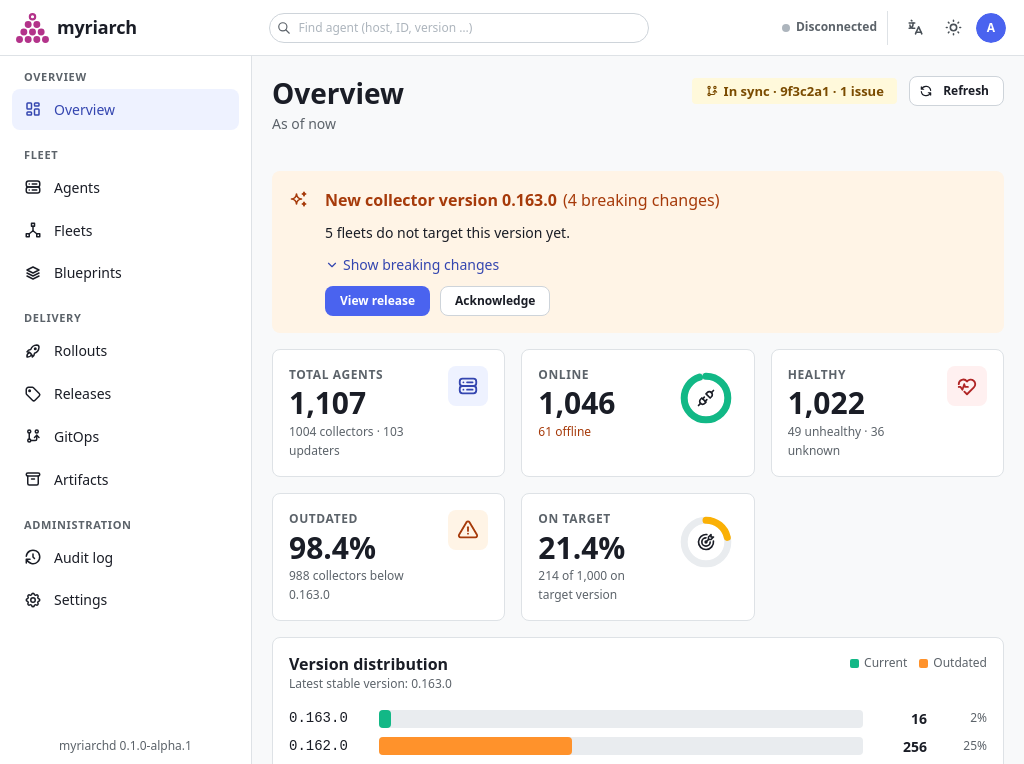
authentication › a 401 from any request logs the user out
Check: the text "Total agents" is shown, box [289, 366, 383, 383]
Click the link "Agents": click(62, 187) [24, 178, 100, 197]
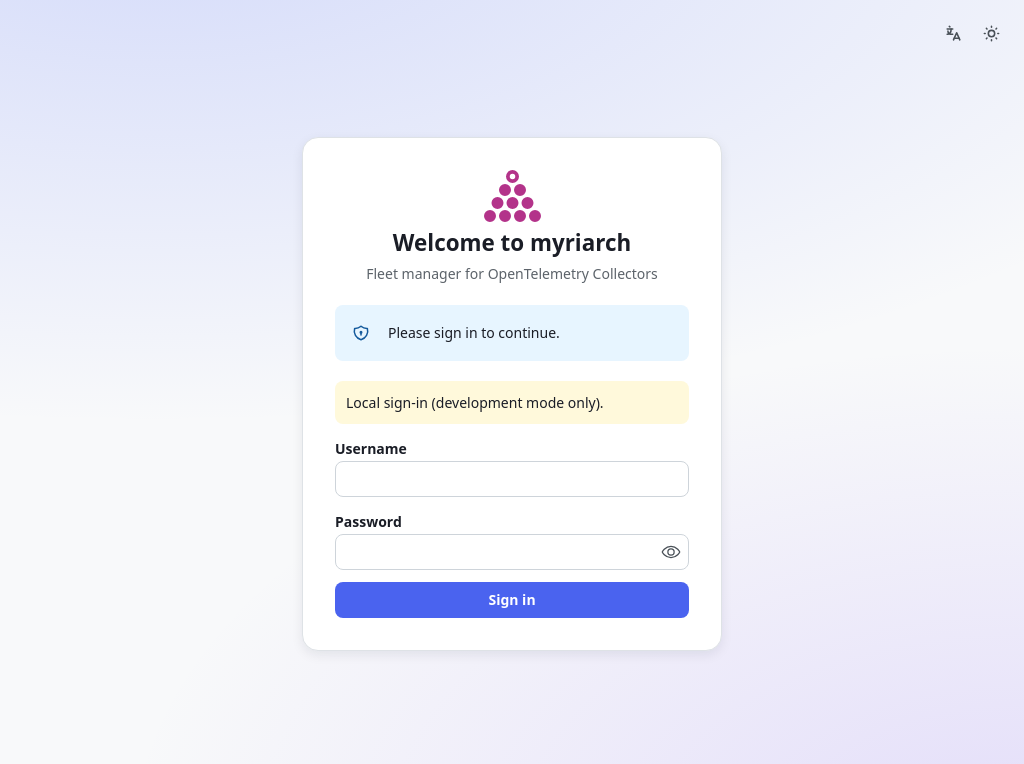
Check: the button "Sign in" is shown, box [335, 582, 689, 618]
